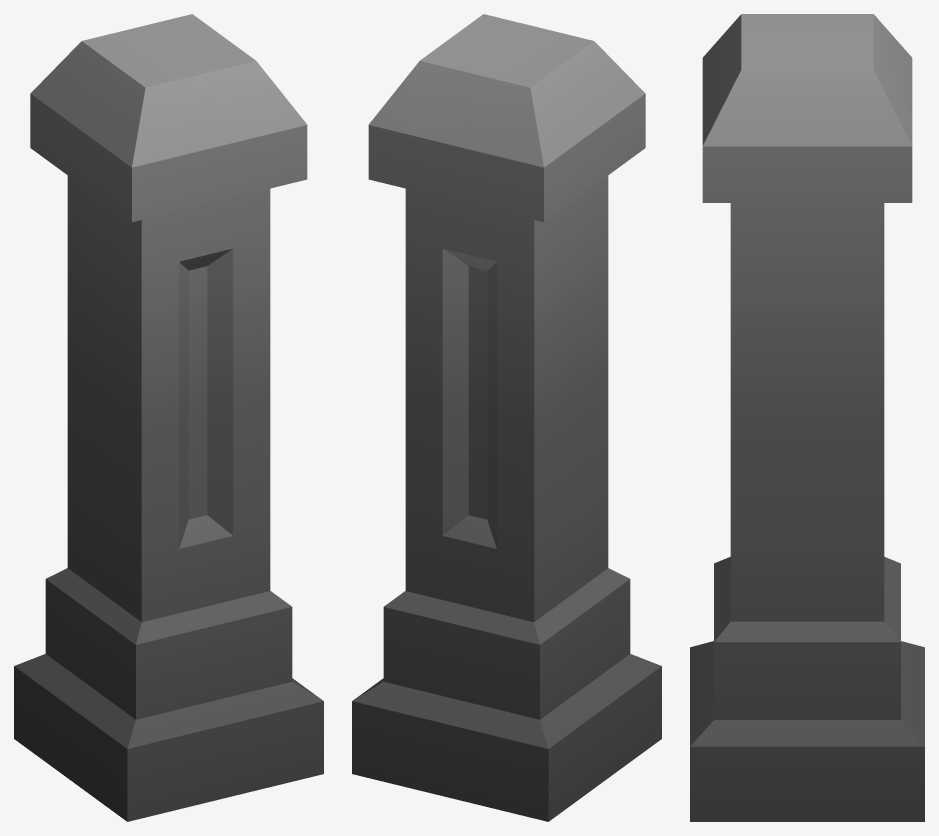
The model's file is fence-04.glb.
3 views of the same model, side by side, from view 1: azimuth 30°, elevation 25°; view 2: azimuth 150°, elevation 25°; view 3: azimuth 270°, elevation 25° (orthographic). The views are drawn at different scales.
Parts seen in each view (by area): view 1: Fence_04; view 2: Fence_04; view 3: Fence_04.
Boxes of the visible parts, box(x1,y1,x2,y2) form: Fence_04: box(14, 14, 323, 821); Fence_04: box(352, 14, 661, 821); Fence_04: box(690, 14, 924, 821).
Size of the model in its own units: 0.8865 by 3.04 by 0.8865.
1 material, 1 textured.
